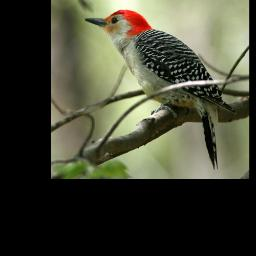Woodpecker: (85, 8, 234, 170)
